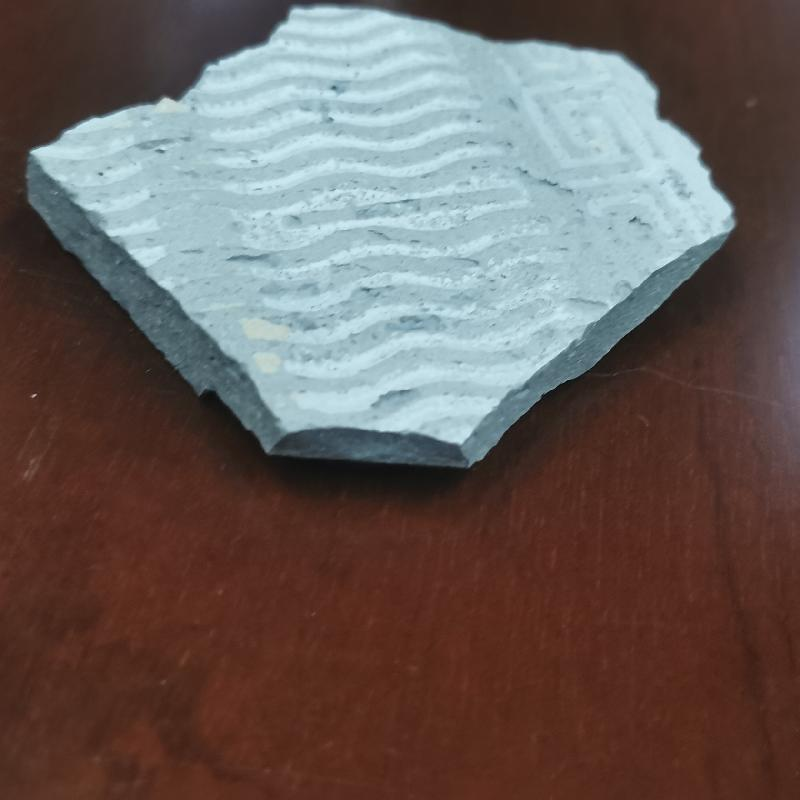tile: (15, 3, 740, 475)
